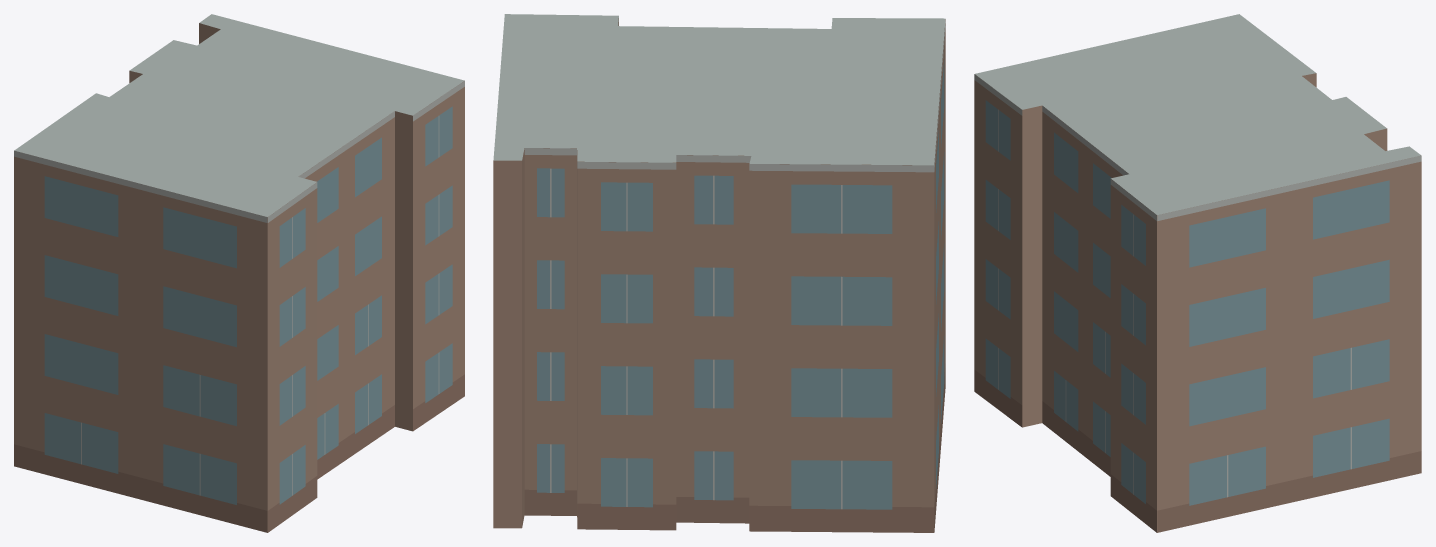
File: survey-upis-32509304.glb
3 views of the same model, side by side, from view 1: azimuth 30°, elevation 25°; view 2: azimuth 150°, elevation 25°; view 3: azimuth 270°, elevation 25° (orthographic). The views are drawn at different scales.
Parts seen in each view (by area): view 1: survey-upis-32509304.tmp; view 2: survey-upis-32509304.tmp; view 3: survey-upis-32509304.tmp.
Boxes of the visible parts, x1,y1,x2,y2 form: survey-upis-32509304.tmp: (14, 14, 464, 532); survey-upis-32509304.tmp: (493, 14, 945, 532); survey-upis-32509304.tmp: (974, 14, 1421, 532).
Bounding box in the file's own units: 17.4 × 12.8 × 16.34.
